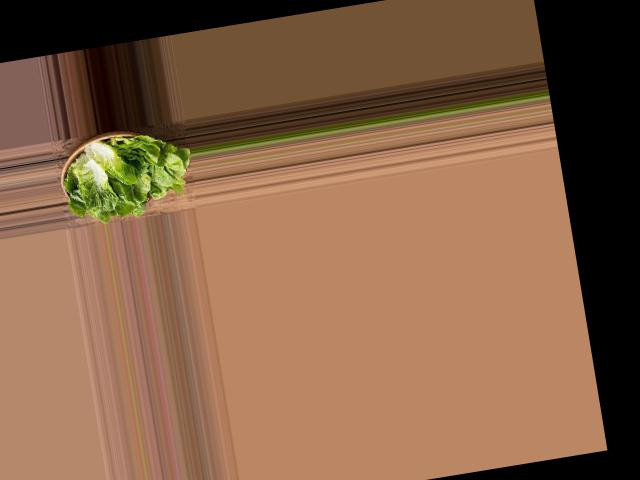lettuce: (49, 121, 196, 225)
